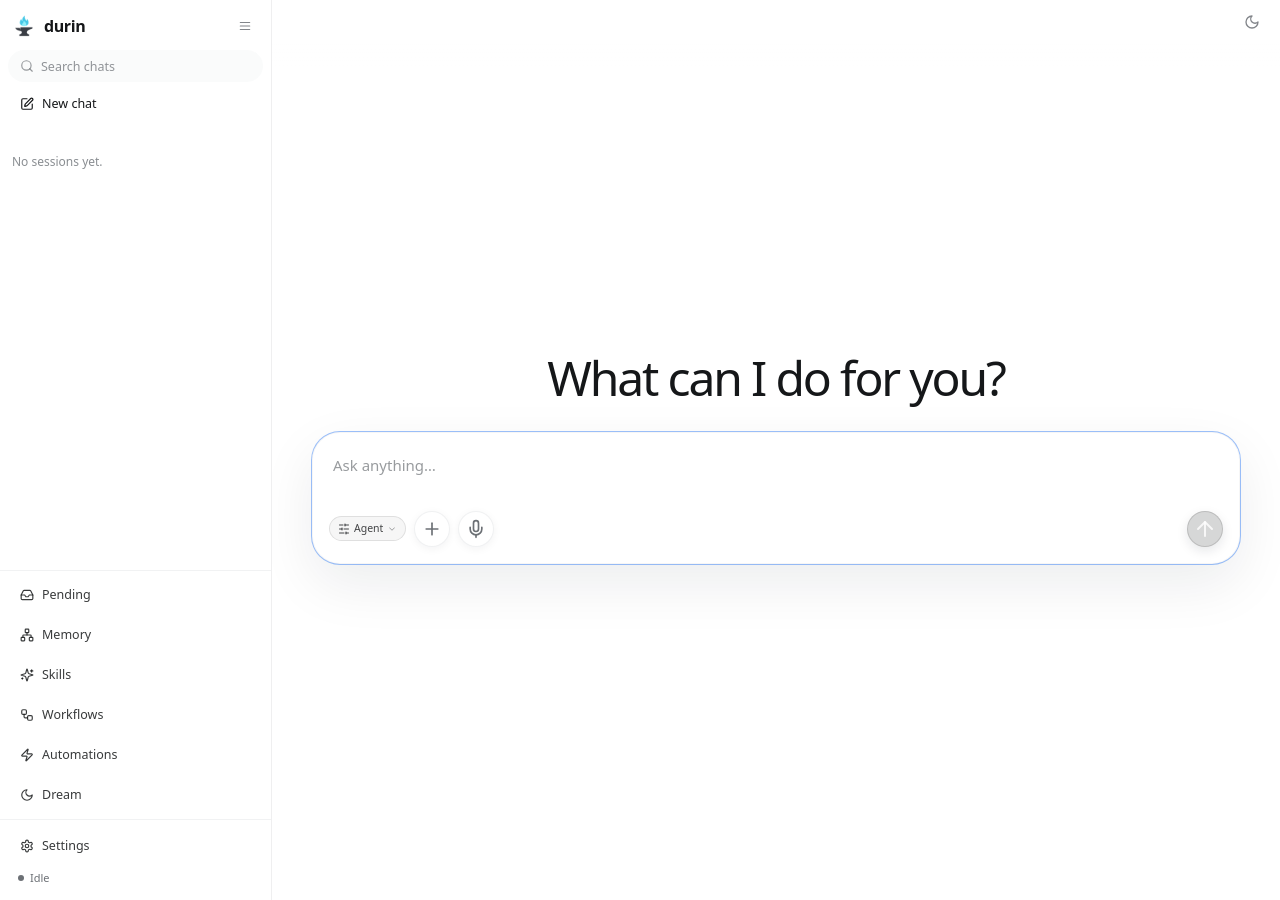
it: App layout › reads the Pending list once per poll while the Pending page is open
The width and height of the screenshot is (1280, 900).
Click the button "Pending": (136,595) [10, 579, 261, 611]
Wait 30000 ms
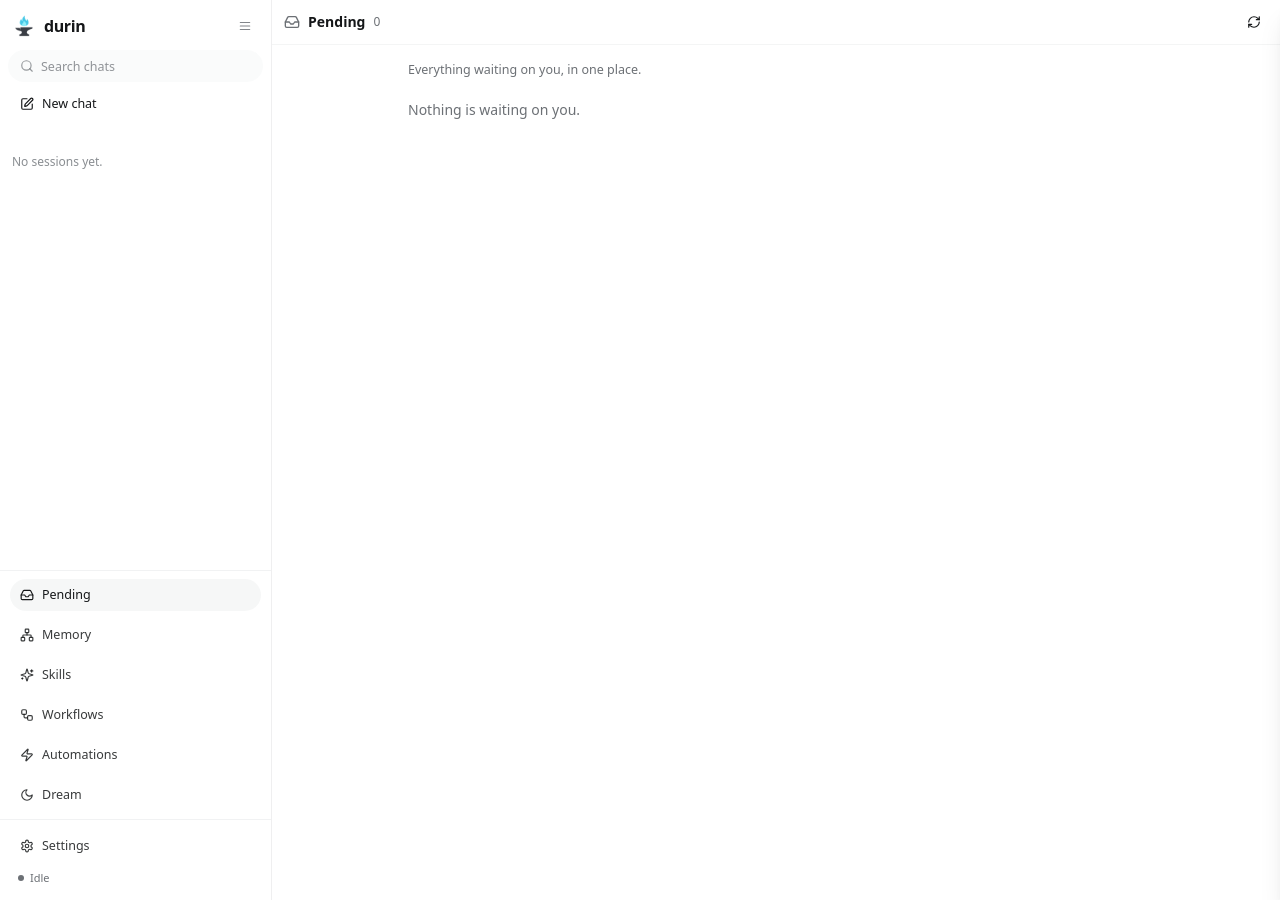
Check: the text "Nothing is waiting on you." is shown, box [408, 100, 580, 119]
